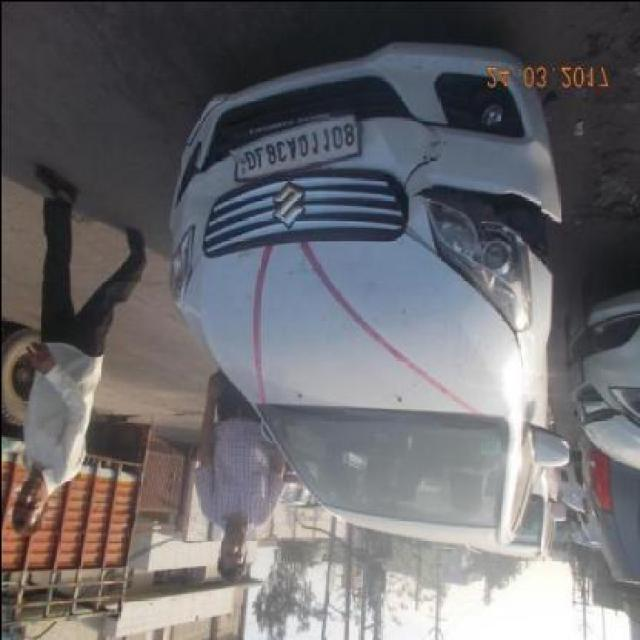damage: (412, 181, 562, 272)
